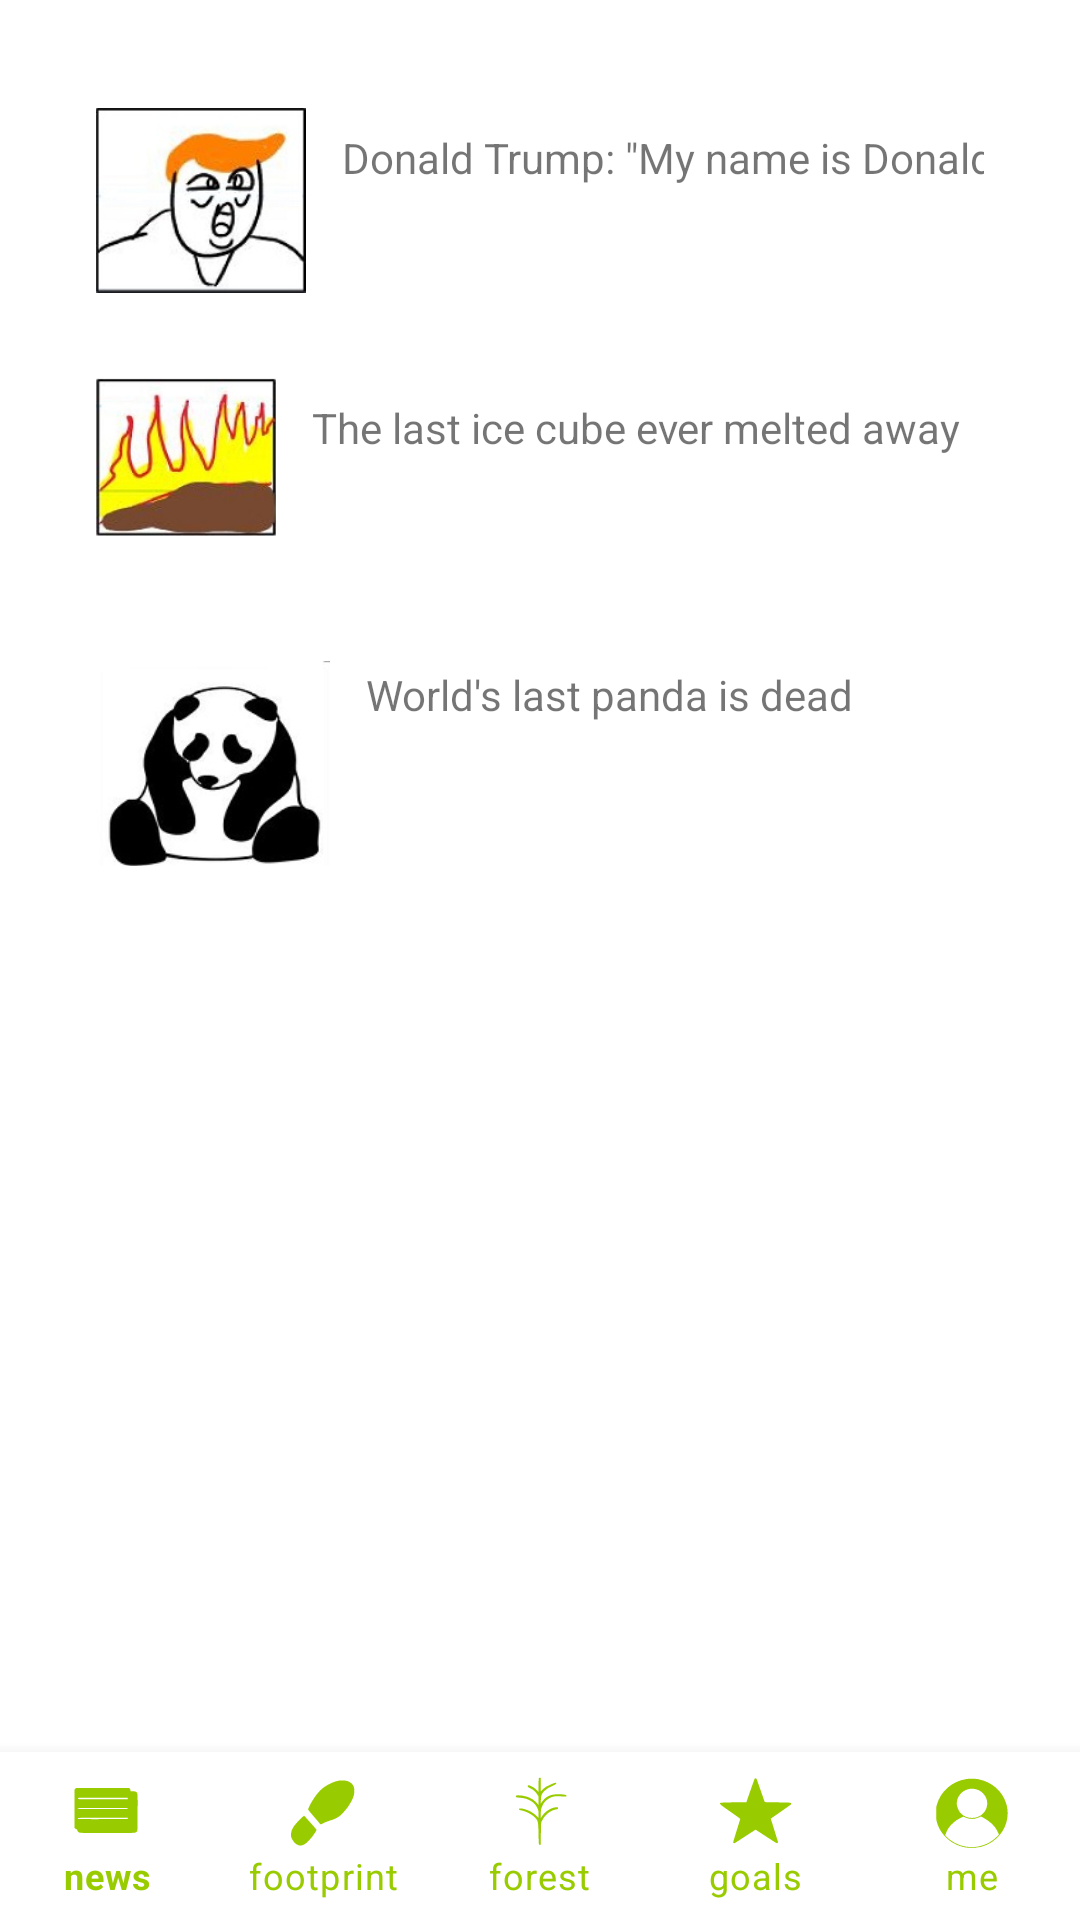

Icons on this 1080x1920 Android screen, each with its box as (x1, y1, x2, y2):
news sadpanda: (109, 661, 330, 866)
